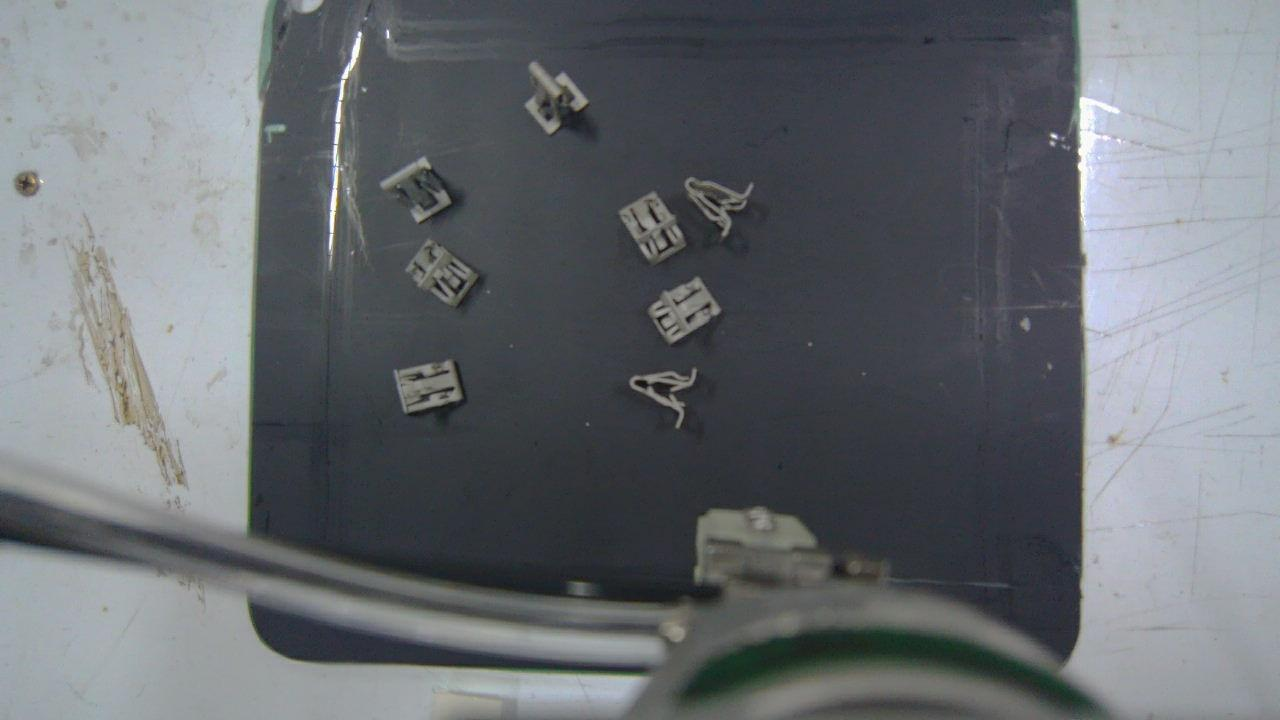ng: (405, 238, 479, 307), (619, 190, 686, 265), (647, 276, 721, 342), (381, 156, 452, 224), (685, 177, 756, 238), (631, 369, 698, 429), (395, 358, 465, 414)
pass: (524, 63, 587, 136)
